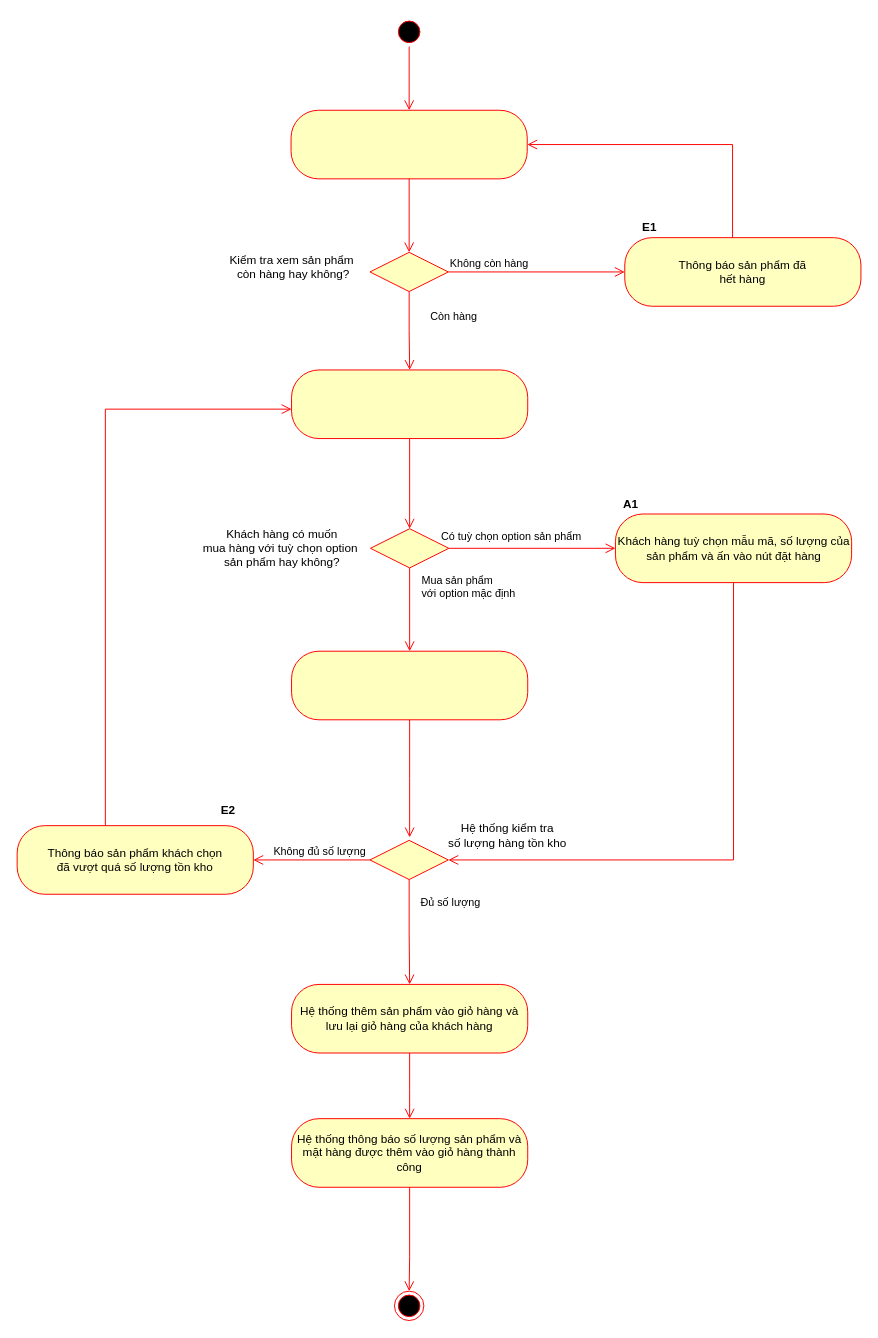
Some shapes in this 878 by 1338 pixel diagram are drawn without their labels. The box of each missing label's shape, as (x1, y1, x2, y2) in pixels:
Hệ thống chuyển hướng đến trang chi tiết sản phẩm của sản phẩm đó: (291, 369, 528, 439)
Khách hàng chọn mua sản phẩm mặc định và ấn vào nút đặt hàng: (291, 650, 528, 720)
Khách hàng click chuột vào một sản phẩm trên trang bán hàng: (290, 109, 527, 179)
